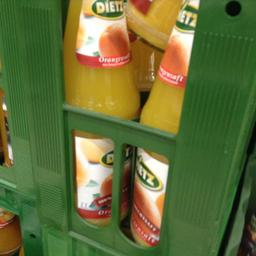juice: (60, 0, 138, 226), (130, 0, 199, 245)
